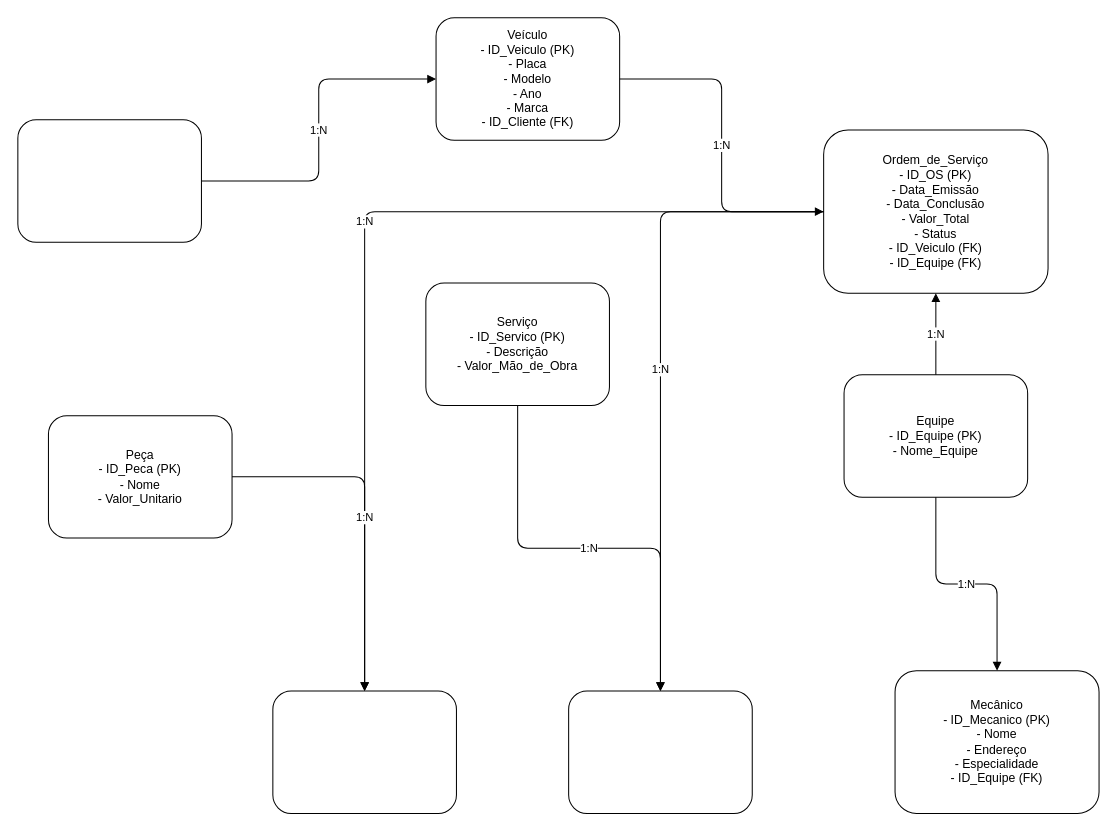
Some shapes in this 1117 by 831 pixel diagram are drawn without their labels. The shapes that lost their labels are listed below. From the top down, each one's centre as x and y in pixels, then its label:
(x=109, y=180): Cliente - ID_Cliente (PK) - Nome - Endereço - Telefone
(x=364, y=751): OS_Peca - ID_OS (FK) - ID_Peca (FK) - Quantidade - Valor_Total
(x=660, y=751): OS_Servico - ID_OS (FK) - ID_Servico (FK) - Valor_Calculado
